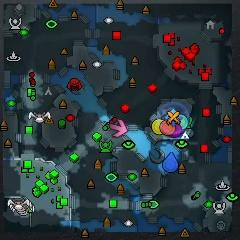Other: (164, 108, 182, 126)
p1: (162, 152, 179, 173)
p2: (180, 115, 189, 130)
p3: (171, 123, 183, 138)
p4: (152, 118, 163, 135)
p5: (160, 121, 175, 135)
x1: (110, 119, 127, 137)
